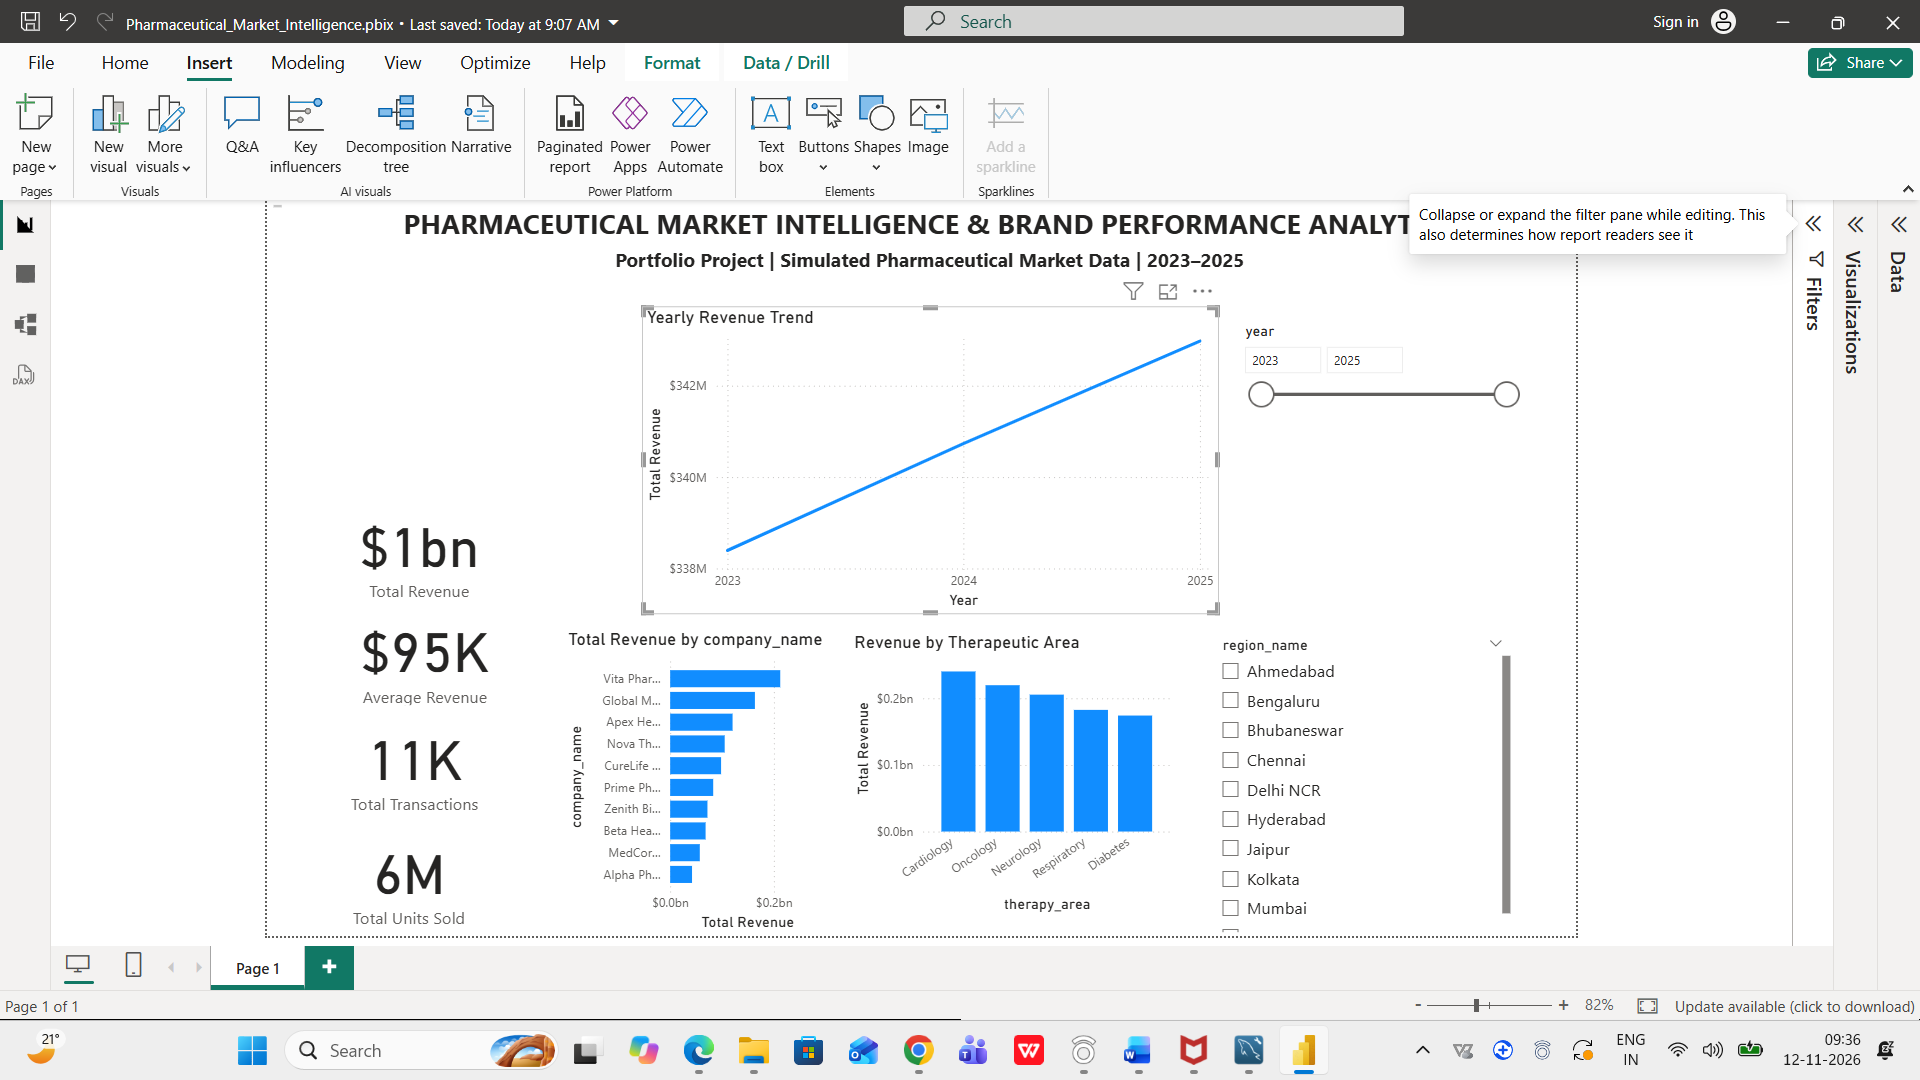

The dashboard page shown, as its layout file describes it:
{"tool":"powerbi","page":{"name":"Page 1","canvas":[1280,720],"ordinal":0},"visuals":[{"type":"card","fields":{"Values":["dim_competitor.Total Transactions"]},"box":[0,499.5,289.5,107],"z":0},{"type":"card","fields":{"Values":["dim_competitor.Total Revenue"]},"box":[19.2,293.7,259.3,101.5],"z":1000},{"type":"card","fields":{"Values":["dim_competitor.Total Units Sold"]},"box":[0,606.5,278.6,113.9],"z":2000},{"type":"card","fields":{"Values":["dim_competitor.Average Revenue"]},"box":[19.2,395.2,270.3,104.3],"z":3000},{"type":"clusteredBarChart","fields":{"Category":["dim_competitor.company_name"],"Y":["dim_competitor.Total Revenue"]},"box":[289.5,419.9,279.9,300.5],"z":4000},{"type":"clusteredColumnChart","title":"Revenue by Therapeutic Area","fields":{"Category":["dim_product.therapy_area"],"Y":["dim_competitor.Total Revenue"]},"box":[569.5,421.3,319.7,279.9],"z":5000},{"type":"lineChart","title":"Yearly Revenue Trend","fields":{"Category":["dim_date.full_date.Variation.Date Hierarchy.Year"],"Y":["dim_competitor.Total Revenue"]},"box":[366.4,104.3,564,300.5],"z":6000},{"type":"slicer","fields":{"Values":["dim_date.year"]},"box":[944.1,115.3,289.5,279.9],"z":7000},{"type":"slicer","fields":{"Values":["dim_region.region_name"]},"box":[922.1,421.3,299.1,299.1],"z":8000},{"type":"textbox","box":[0,0,19.2,12.3],"z":9000},{"type":"textbox","box":[39.8,0,1214.4,97.4],"z":10000},{"type":"textbox","box":[67.2,39.8,1162.3,48],"z":10001}]}

Visuals, with their boxes on the page's 1280x720 design canvas (x1, y1, x2, y2). These are canvas units, not pixel positions in the 1920x1080 screenshot, which may show the page scaled, cropped or inside an application window:
card - dim_competitor.Total Transactions: (0, 500, 290, 606)
card - dim_competitor.Total Revenue: (19, 294, 278, 395)
card - dim_competitor.Total Units Sold: (0, 606, 279, 720)
card - dim_competitor.Average Revenue: (19, 395, 290, 500)
clusteredBarChart - dim_competitor.company_name x dim_competitor.Total Revenue: (290, 420, 569, 720)
"Revenue by Therapeutic Area" clusteredColumnChart: (570, 421, 889, 701)
"Yearly Revenue Trend" lineChart: (366, 104, 930, 405)
slicer - dim_date.year: (944, 115, 1234, 395)
slicer - dim_region.region_name: (922, 421, 1221, 720)
textbox: (0, 0, 19, 12)
textbox: (40, 0, 1254, 97)
textbox: (67, 40, 1230, 88)
